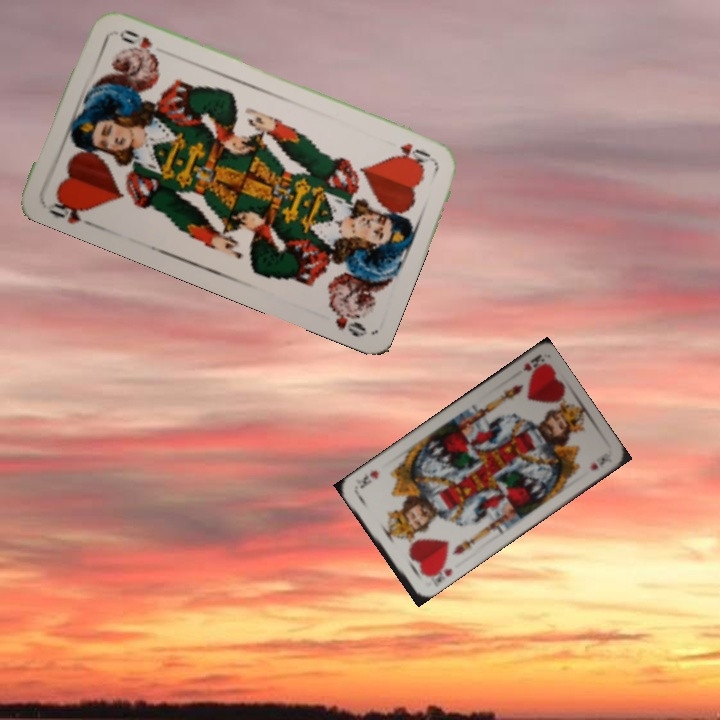HK: (422, 558, 455, 585), (519, 351, 546, 375)
HO: (41, 192, 98, 230), (392, 139, 433, 166)
